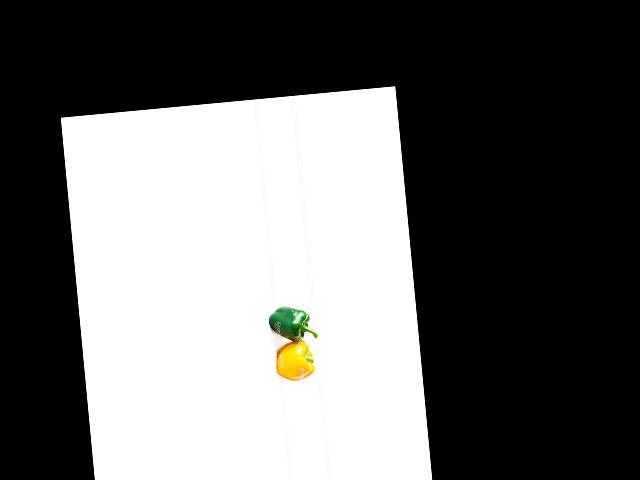bell_pepper: (261, 300, 314, 343)
